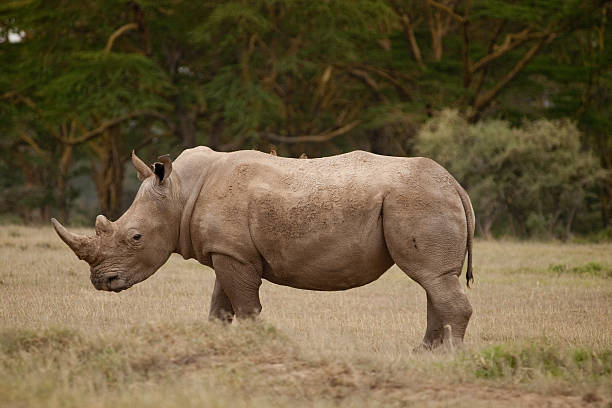rhino: (39, 140, 187, 303)
